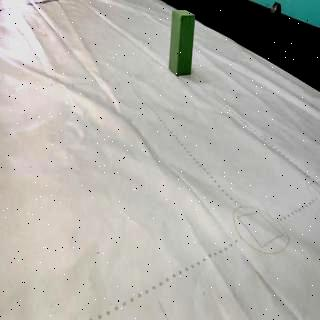greenbox: (168, 7, 196, 76)
